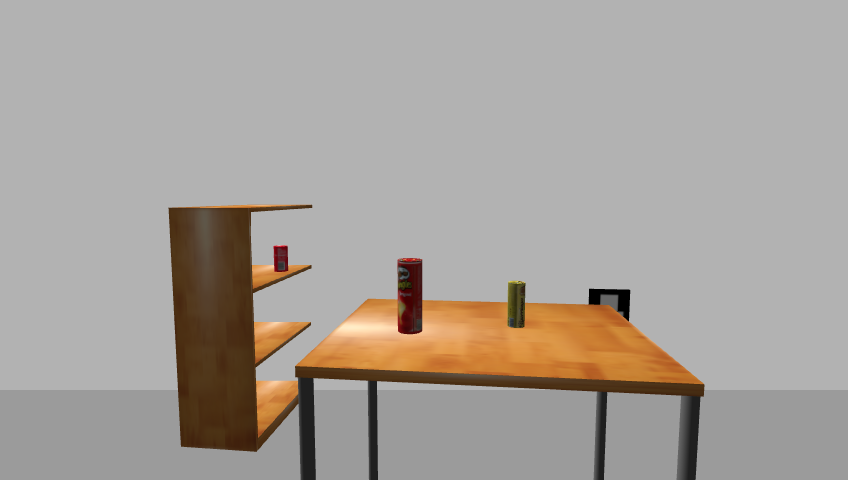aruco marker: (584, 287, 634, 324)
biscuits pack: (506, 281, 527, 330)
bookshelf: (164, 201, 316, 454)
coke can: (271, 245, 290, 273)
dinner table: (291, 297, 711, 479)
pringles can: (395, 257, 424, 336)
